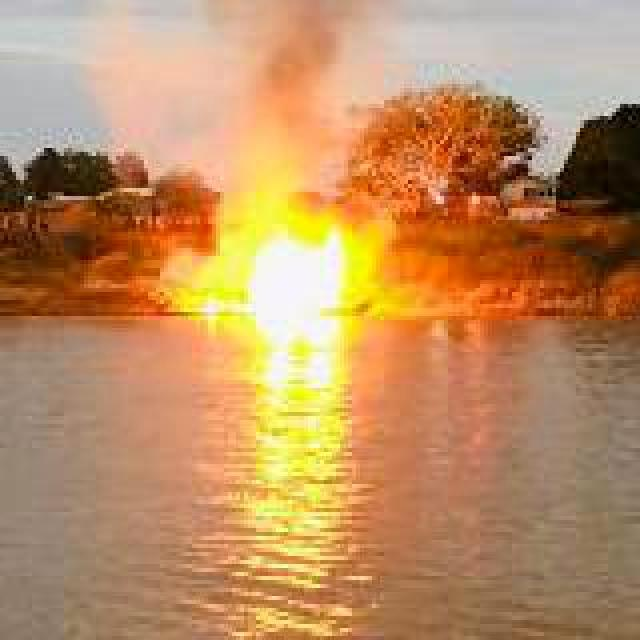smoke: (176, 0, 420, 196)
